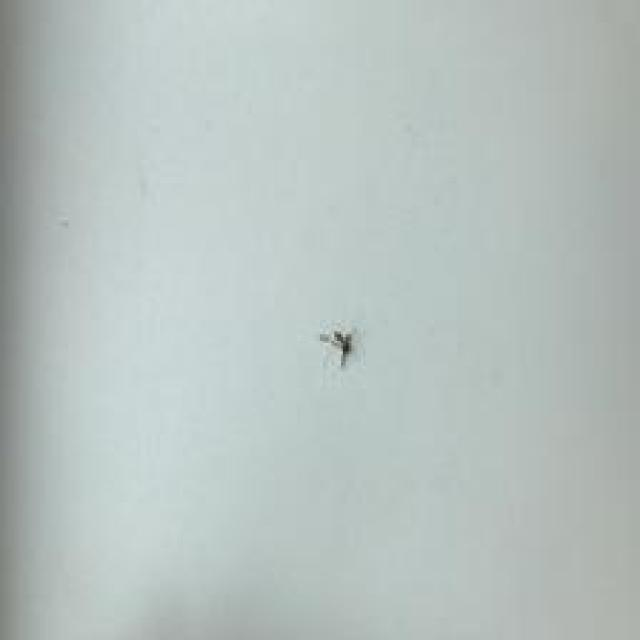Culex: (320, 327, 354, 367)
